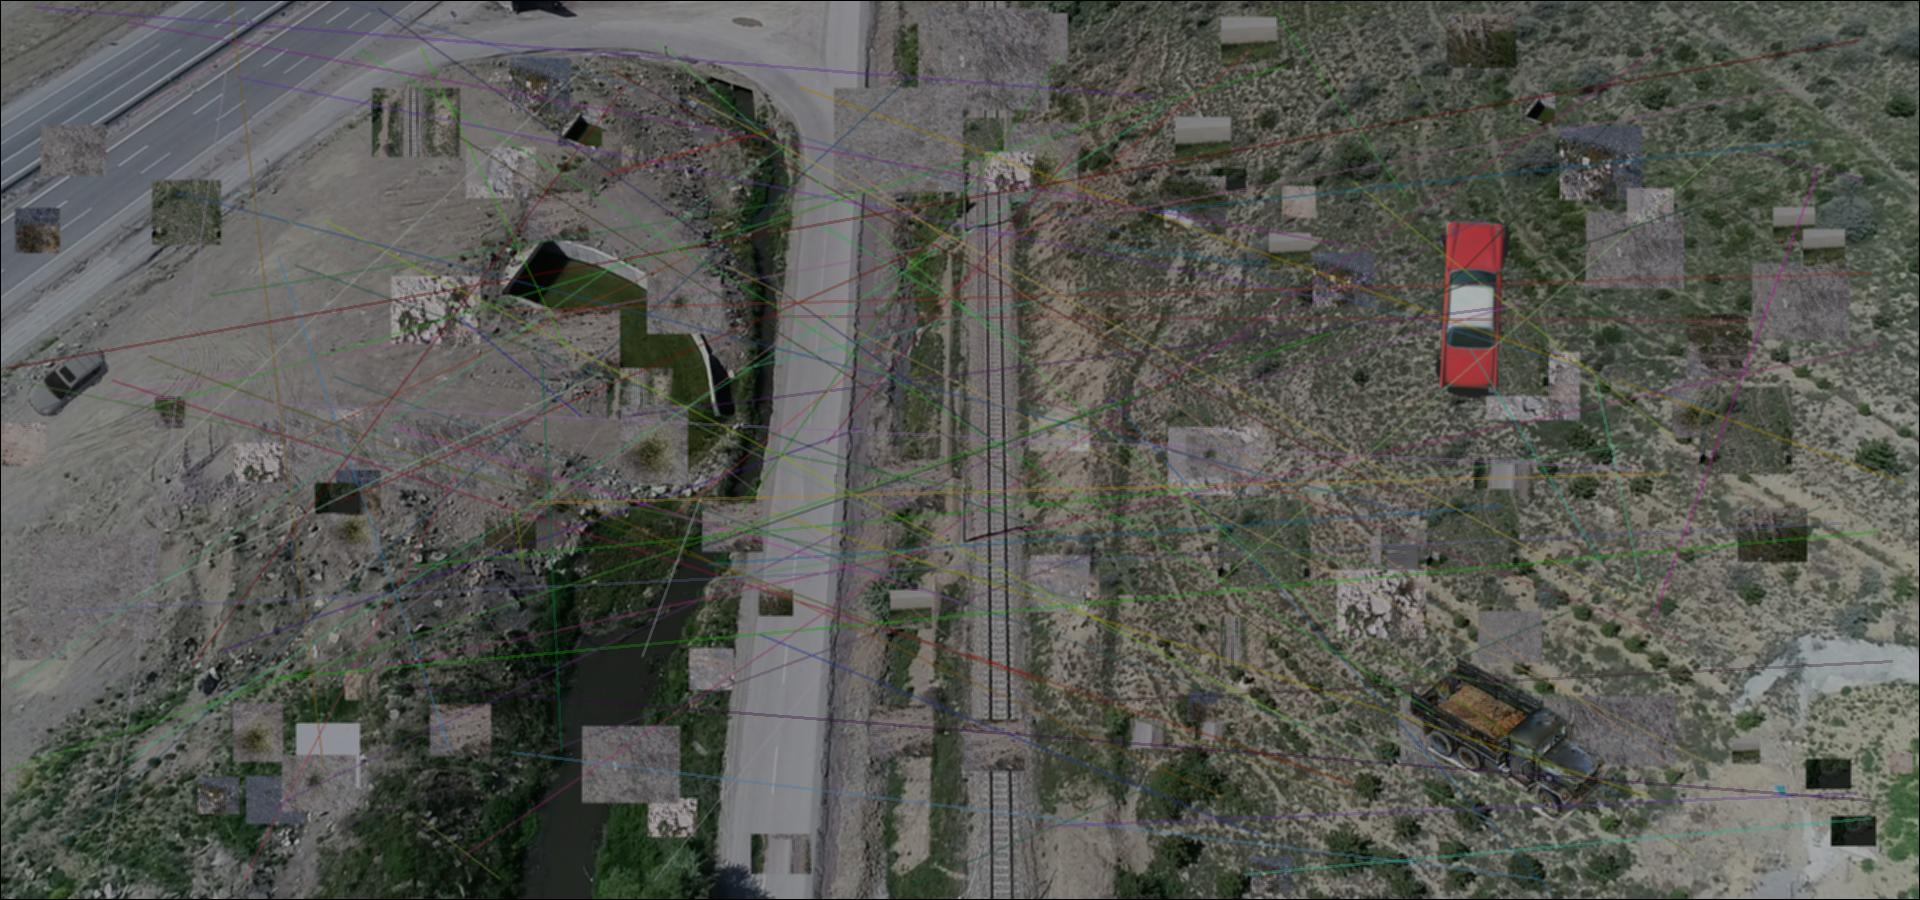arac: (1407, 654, 1609, 820), (1435, 220, 1511, 400), (24, 348, 108, 416)
